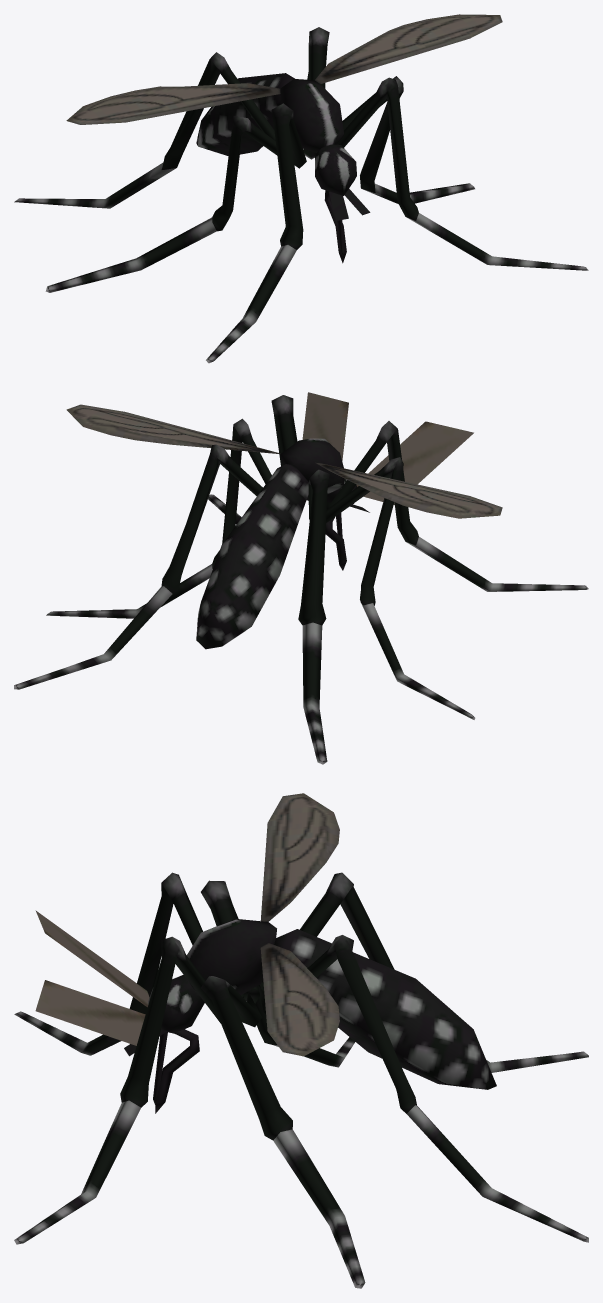
File: InsectKa.glb
3 renders of one model, top to bottom at view 1: azimuth 30°, elevation 25°; view 2: azimuth 150°, elevation 25°; view 3: azimuth 270°, elevation 25°, orthographic. The views are drawn at different scales.
Parts seen in each view (by area): view 1: pCube1__mKa; view 2: pCube1__mKa; view 3: pCube1__mKa.
Boxes of the visible parts, x1=… form: pCube1__mKa: x1=14, y1=14, x2=588, y2=363; pCube1__mKa: x1=14, y1=392, x2=588, y2=764; pCube1__mKa: x1=14, y1=793, x2=588, y2=1288.
Size of the model in its own units: 1.15 by 0.5193 by 1.06.
Materials: 1 (1 with a texture image).
